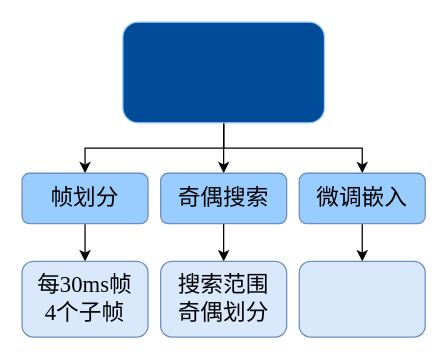
Some shapes in this 447 by 359 pixel diagram are drawn without their labels. Here are the shapes that lost their labels. From the top down, the centre of each, then its label:
At point 223,72: "PMS算法 基音周期预测".
At point 361,298: "±2 样本点 扰动范围".
